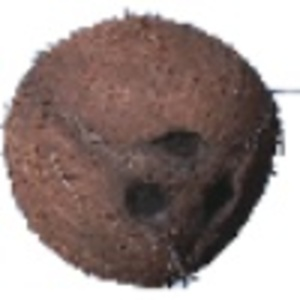coco: (3, 14, 300, 289)
